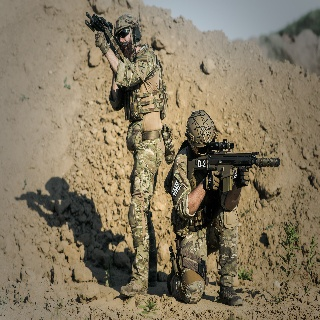rifle: (186, 140, 281, 194), (83, 10, 124, 60)
